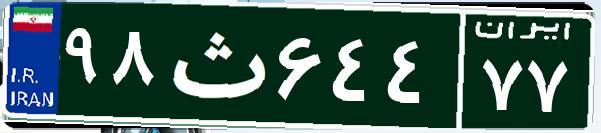4: (385, 28, 445, 110), (330, 28, 385, 110)
6: (273, 28, 330, 110)
7: (475, 38, 525, 113), (525, 38, 570, 115)
8: (110, 28, 158, 105)
9: (57, 26, 110, 107)
ث: (158, 15, 273, 115)
